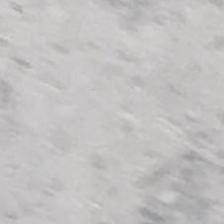Non_Crack: (18, 16, 213, 202)
